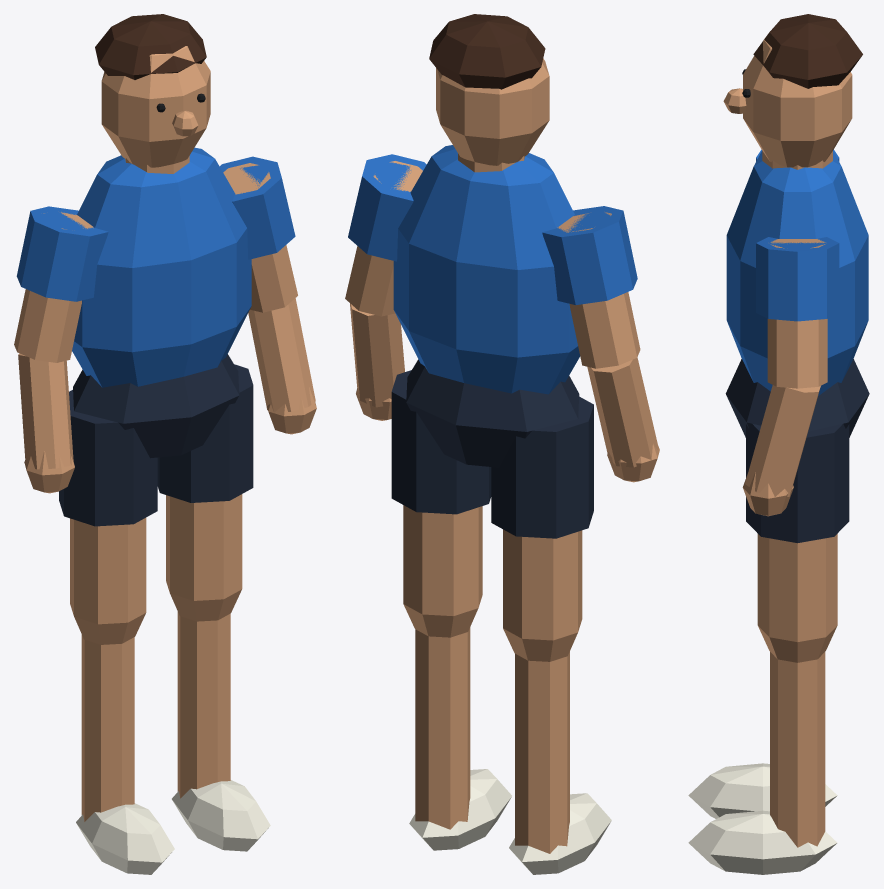
Rendered from runner.glb.
The picture shows the model from 3 angles, left to right: view 1: azimuth 30°, elevation 25°; view 2: azimuth 150°, elevation 25°; view 3: azimuth 270°, elevation 25°; orthographic projection. The views are drawn at different scales.
Parts seen in each view (by area): view 1: body, legR, legL, armR, armL; view 2: body, legR, legL, armR, armL; view 3: body, legL, armL, legR.
Boxes of the visible parts, x1,y1,x2,y2 form: body: (72,14,251,458); legR: (59,390,174,874); legL: (157,364,270,851); armR: (14,206,108,493); armL: (219,156,316,434); body: (393,14,579,467); legR: (491,396,611,874); legL: (391,370,511,850); armR: (542,206,659,482); armL: (345,154,426,420); body: (723,14,869,437); legL: (688,423,849,874); armL: (742,237,839,516); legR: (688,763,837,818).
Size of the model in its own units: 0.6294 by 1.7 by 0.3386.
